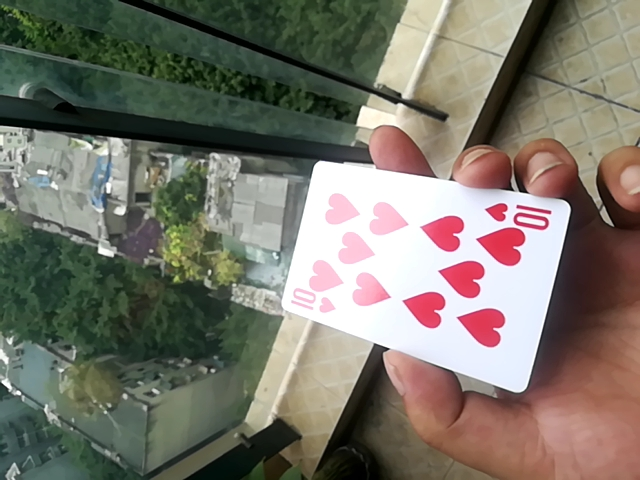hx 10: (276, 156, 565, 392)
